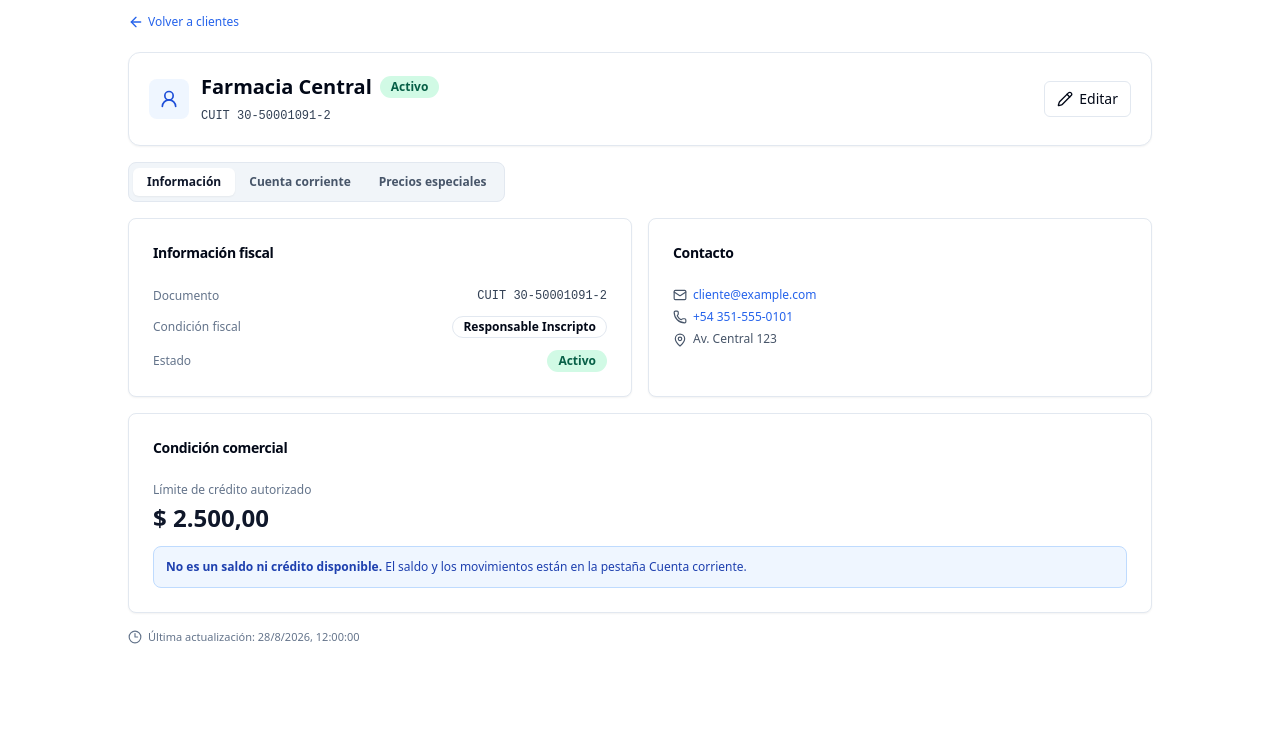
Test: CustomerDetailPage › shows real customer information without fabricating account balances
The image size is (1280, 732).
Check: the heading "Farmacia Central" is shown, box [201,73,372,101]
Check: the text "No es un saldo ni crédito disponible." is shown, box [166,558,382,575]
Click the tab "Precios especiales": (433, 182) [365,168,500,196]
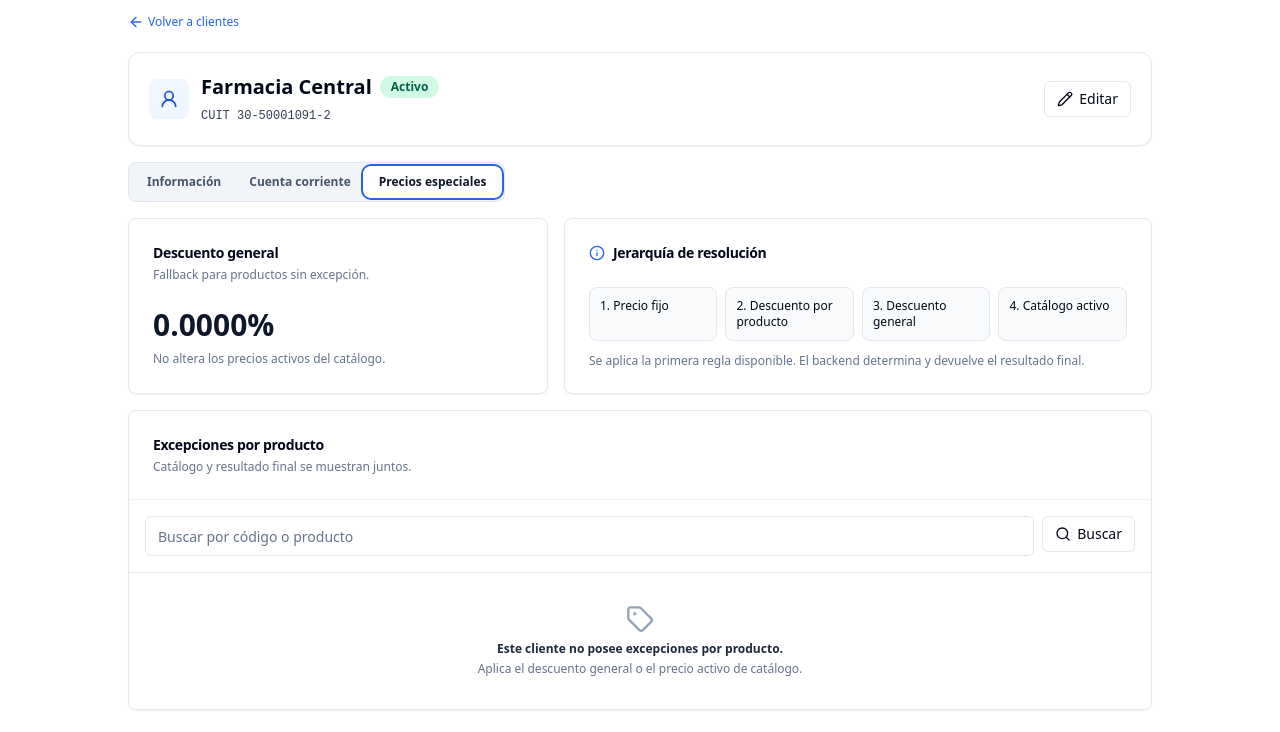
Check: the text "Este cliente no posee excepciones por producto." is shown, box [497,640,783,657]
Check: the text "0.0000%" is shown, box [153,304,274,345]
